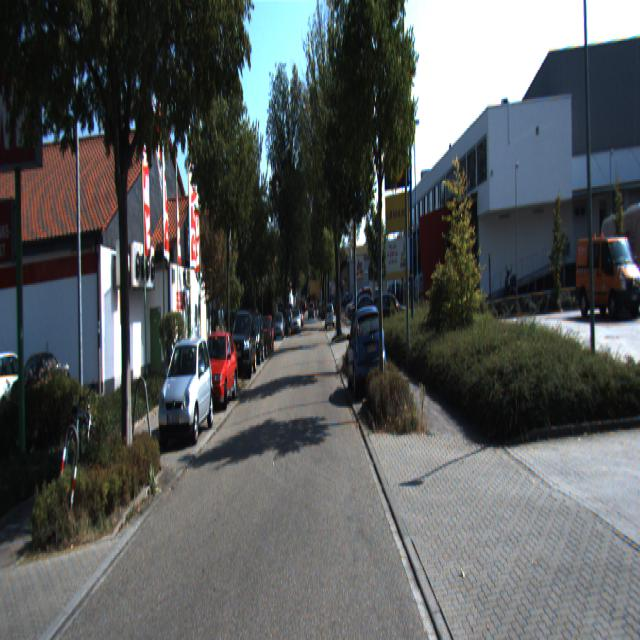Car: (574, 220, 640, 318), (158, 333, 214, 445), (0, 346, 46, 432), (347, 301, 386, 397), (196, 329, 237, 412), (229, 309, 258, 380), (243, 314, 265, 369)
